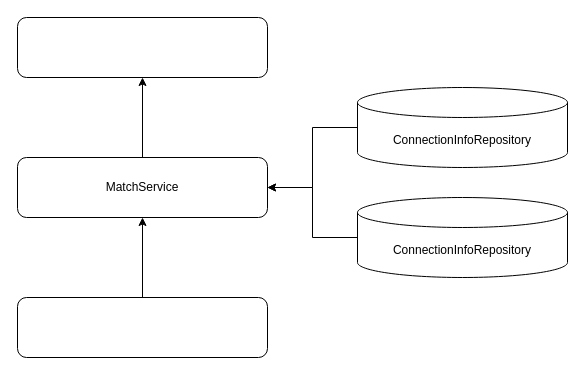
The diagram is 585 pixels wide and 375 high, and some of its shapes have lost their labels. The shapes that lost their labels are listed below. From the top down, each one's centre as x and y in pixels, then its label:
the point at 142,47: WebSocketHandler
the point at 142,327: SendService
